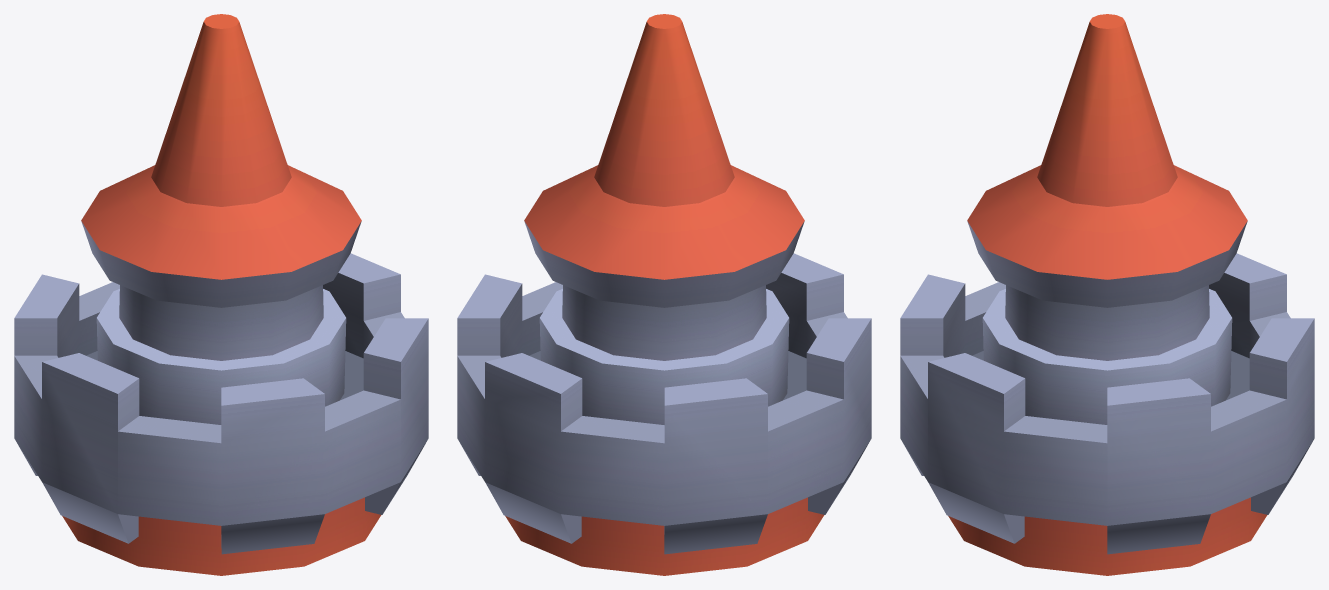
File: tower-round-roof-b.glb
3 renders of one model, left to right at view 1: azimuth 30°, elevation 25°; view 2: azimuth 150°, elevation 25°; view 3: azimuth 270°, elevation 25°, orthographic.
Parts seen in each view (by area): view 1: tower-round-roof-b; view 2: tower-round-roof-b; view 3: tower-round-roof-b.
Part boxes in pixels (x1,y1,x2,y2): tower-round-roof-b: (14, 14, 428, 575); tower-round-roof-b: (457, 14, 871, 575); tower-round-roof-b: (900, 14, 1314, 575).
Bounding box in the file's own units: 1 × 1.29 × 1.
Materials: 1 (1 with a texture image).
